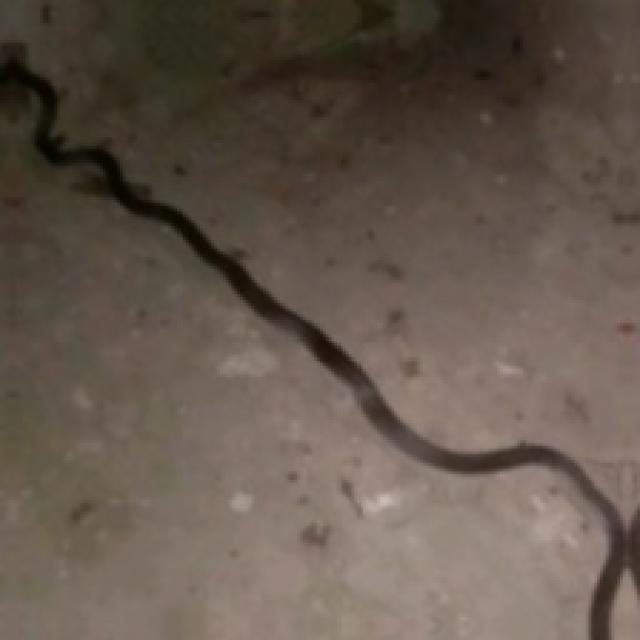king cobra: (63, 149, 637, 637)
